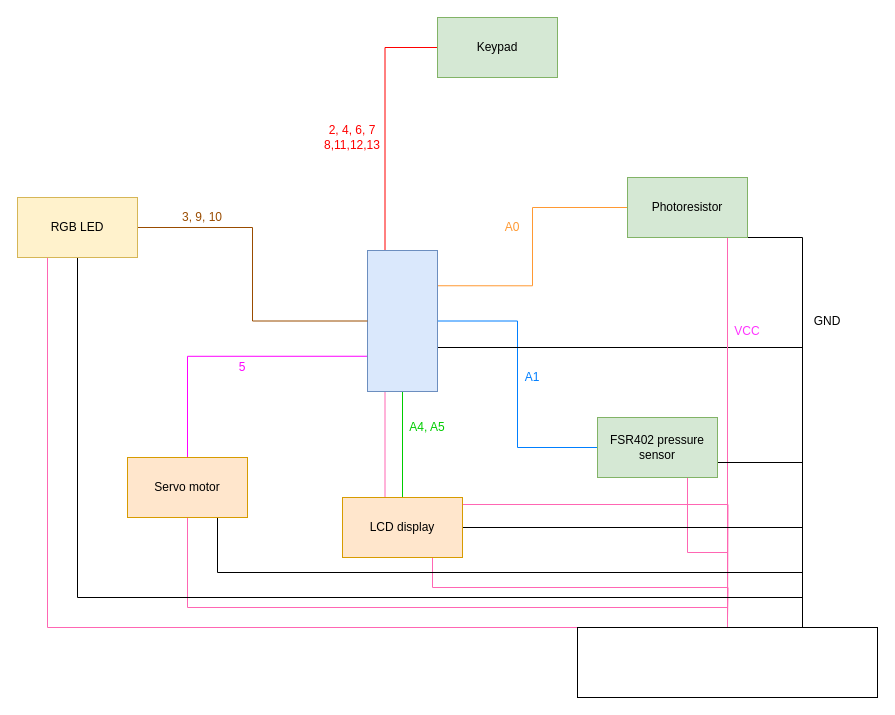
Image size: 895x715. Some labels were removed from this diagram. The shapes that lost their labels are listed below. From the top down, each one's centre as x and y in pixels, then its label:
At point (402, 321): "Arduino UNO".
At point (727, 662): "Bread Board".
